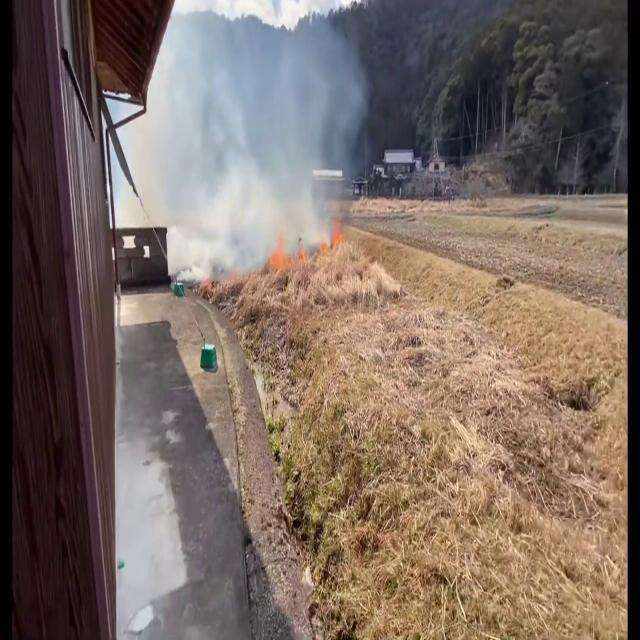Smoke: (143, 0, 371, 302)
